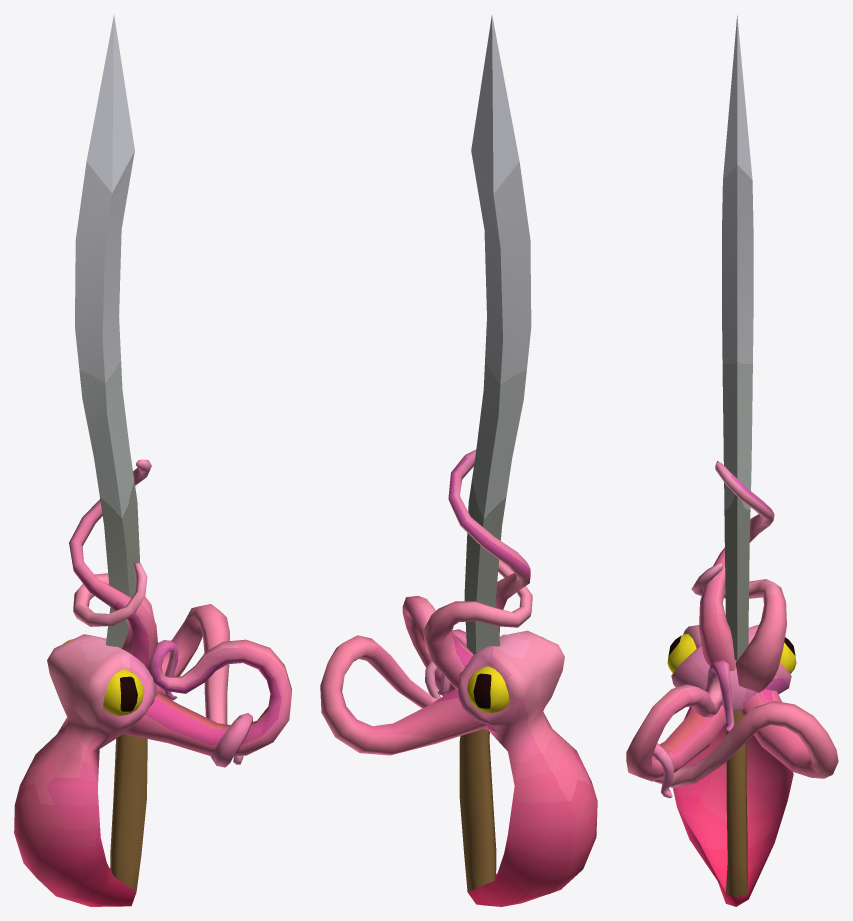
Rendered from 7-Cephalopod.gltf.
3 renders of one model, left to right at view 1: azimuth 30°, elevation 25°; view 2: azimuth 150°, elevation 25°; view 3: azimuth 270°, elevation 25°, orthographic.
Visible parts, largest first — view 1: s; view 2: s; view 3: s.
Part boxes in pixels (box(x1,y1,x2,y2)): s: box(14, 14, 291, 906); s: box(320, 15, 597, 906); s: box(626, 15, 838, 906).
Size of the model in its own units: 0.3807 by 1.41 by 0.3062.
Materials: 1 (1 with a texture image).
